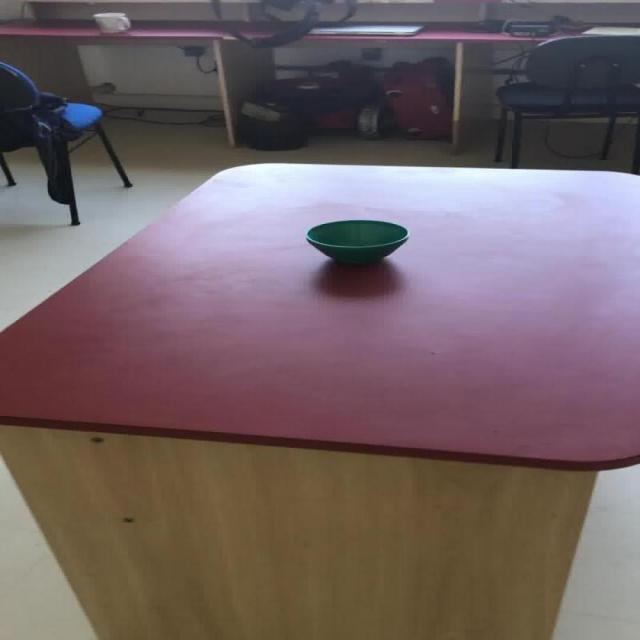Bowl: (304, 218, 408, 264)
